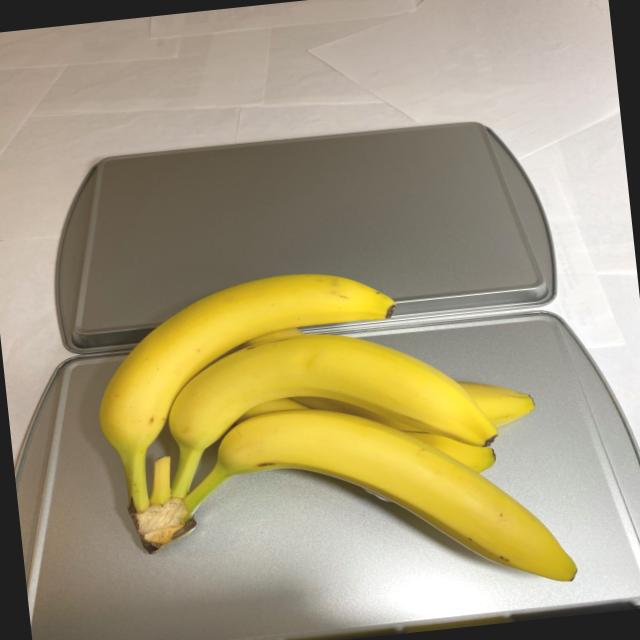banana: (82, 242, 585, 638)
